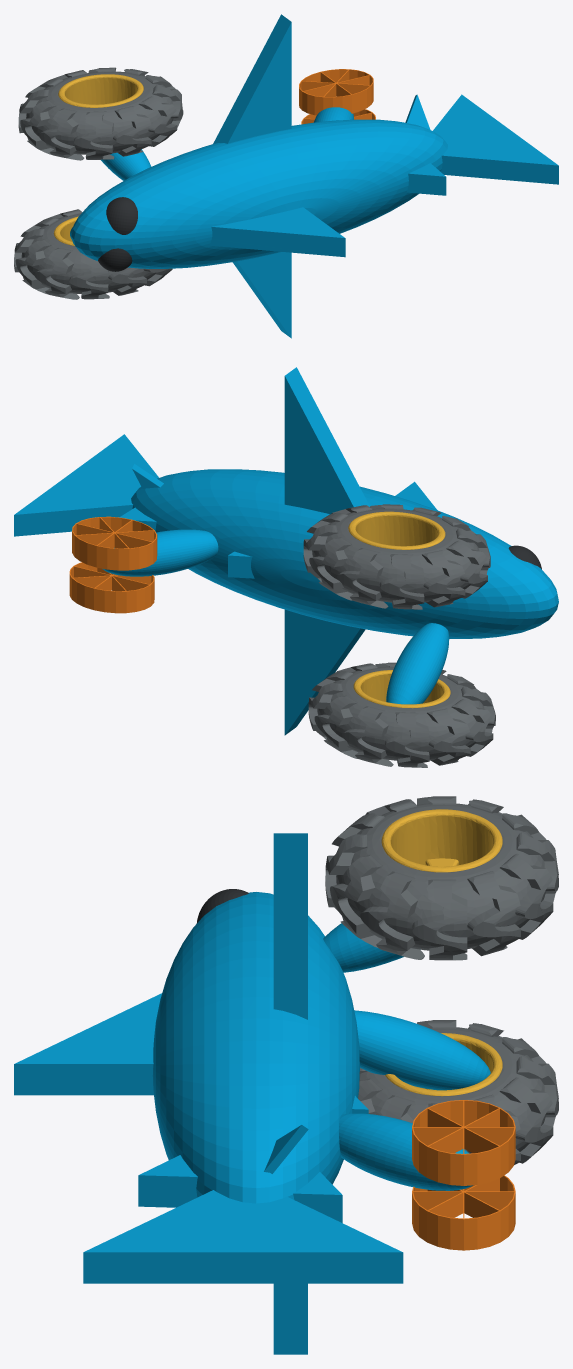
File: tinker.obj
The picture shows the model from 3 angles, top to bottom: view 1: azimuth 30°, elevation 25°; view 2: azimuth 150°, elevation 25°; view 3: azimuth 270°, elevation 25°; orthographic projection. The views are drawn at different scales.
Parts seen in each view (by area): view 1: group_0_40919, group_0_6383466, group_0_16089887, group_0_14789940, group_0_2829873; view 2: group_0_40919, group_0_6383466, group_0_16089887, group_0_14789940; view 3: group_0_40919, group_0_6383466, group_0_16089887, group_0_14789940.
Boxes of the visible parts, left/top/right/bottom form: group_0_40919: left=70, top=14, right=558, bottom=338; group_0_6383466: left=14, top=67, right=183, bottom=299; group_0_16089887: left=299, top=69, right=375, bottom=124; group_0_14789940: left=53, top=74, right=143, bottom=245; group_0_2829873: left=98, top=197, right=137, bottom=271; group_0_40919: left=14, top=367, right=558, bottom=735; group_0_6383466: left=303, top=504, right=495, bottom=767; group_0_16089887: left=69, top=516, right=157, bottom=613; group_0_14789940: left=348, top=511, right=450, bottom=708; group_0_40919: left=14, top=833, right=490, bottom=1354; group_0_6383466: left=325, top=796, right=558, bottom=1164; group_0_16089887: left=412, top=1100, right=515, bottom=1250; group_0_14789940: left=381, top=809, right=502, bottom=1096.
Size of the model in its own units: 95 by 66.5 by 63.
